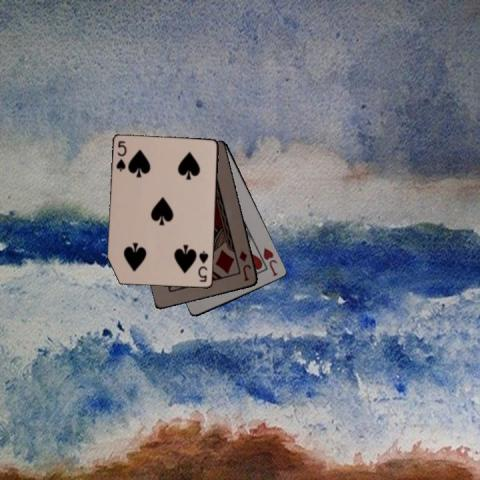5s: (113, 138, 128, 173), (196, 248, 210, 283)
Jd: (236, 248, 253, 283)
Jh: (261, 245, 279, 278)
